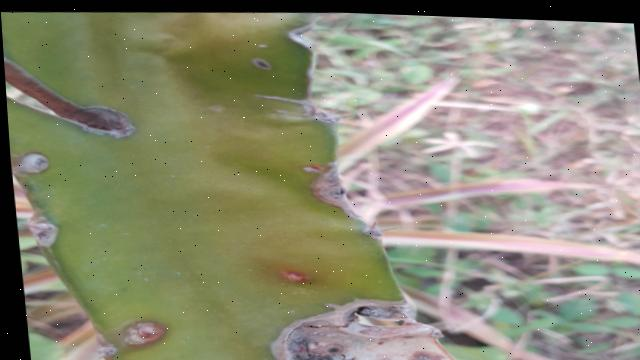stemcanker: (109, 316, 179, 351), (270, 257, 321, 293), (10, 149, 52, 178), (251, 57, 275, 71)
